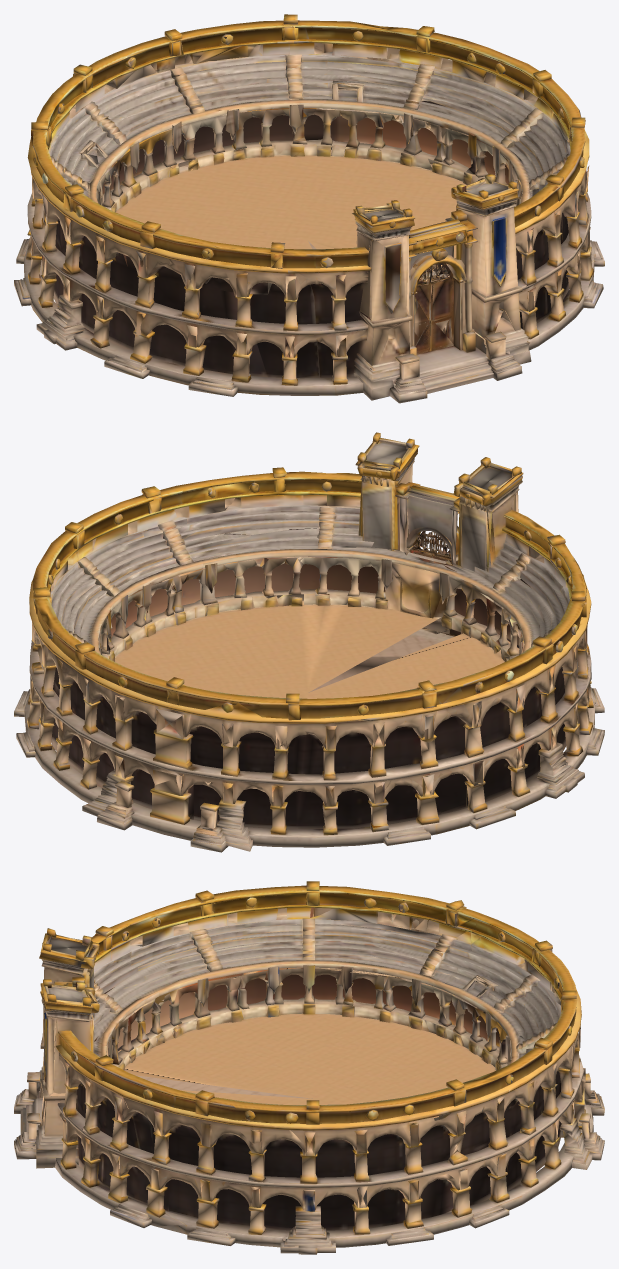
Rendered from camp_colisee_v5.glb.
The picture shows the model from 3 angles, top to bottom: view 1: azimuth 30°, elevation 25°; view 2: azimuth 150°, elevation 25°; view 3: azimuth 270°, elevation 25°; orthographic projection. The views are drawn at different scales.
Visible parts, largest first — view 1: Mesh_0; view 2: Mesh_0; view 3: Mesh_0.
Part boxes in pixels (x1=…): Mesh_0: x1=14, y1=14, x2=604, y2=403; Mesh_0: x1=14, y1=432, x2=604, y2=852; Mesh_0: x1=14, y1=881, x2=604, y2=1254.
Size of the model in its own units: 0.9326 by 0.2988 by 0.9482.
1 material, 1 textured.
